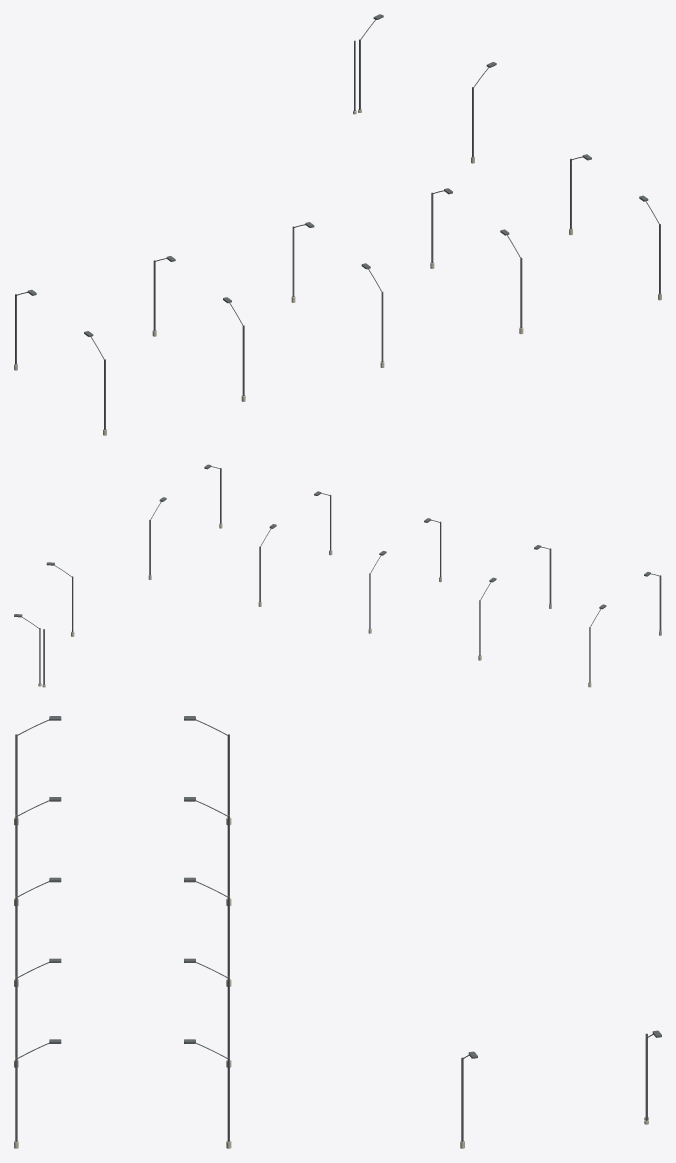
The picture shows the model from 3 angles, top to bottom: view 1: azimuth 30°, elevation 25°; view 2: azimuth 150°, elevation 25°; view 3: azimuth 270°, elevation 25°; orthographic projection. The views are drawn at different scales.
Parts seen in each view (by area): view 1: buildings_s_0_-2_Dark_Metal; view 2: buildings_s_0_-2_Dark_Metal; view 3: buildings_s_0_-2_Dark_Metal.
Boxes of the visible parts, bbox=[...] form: buildings_s_0_-2_Dark_Metal: bbox=[15, 14, 660, 429]; buildings_s_0_-2_Dark_Metal: bbox=[14, 464, 661, 684]; buildings_s_0_-2_Dark_Metal: bbox=[15, 716, 661, 1141].
Bounding box in the file's own units: 114 × 16.75 × 91.49.
